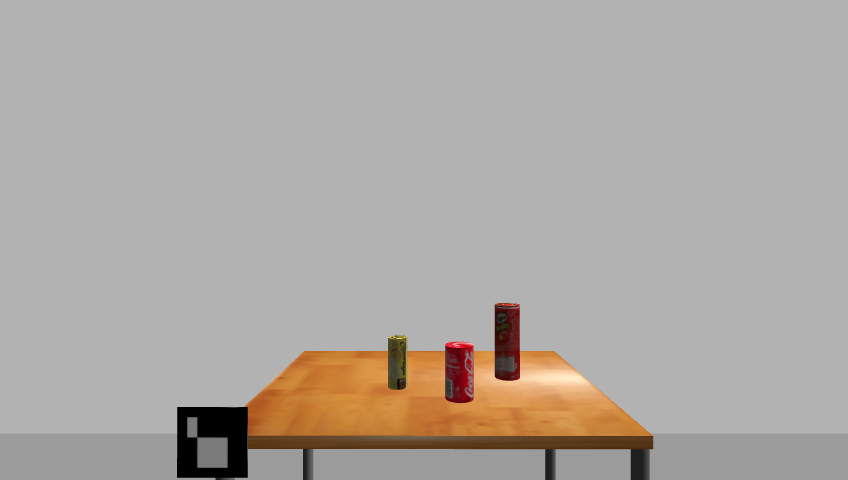aruco marker: (171, 405, 253, 480)
biscuits pack: (386, 335, 408, 391)
coke can: (443, 342, 477, 403)
dinner table: (236, 348, 663, 480)
pringles can: (491, 302, 523, 383)
